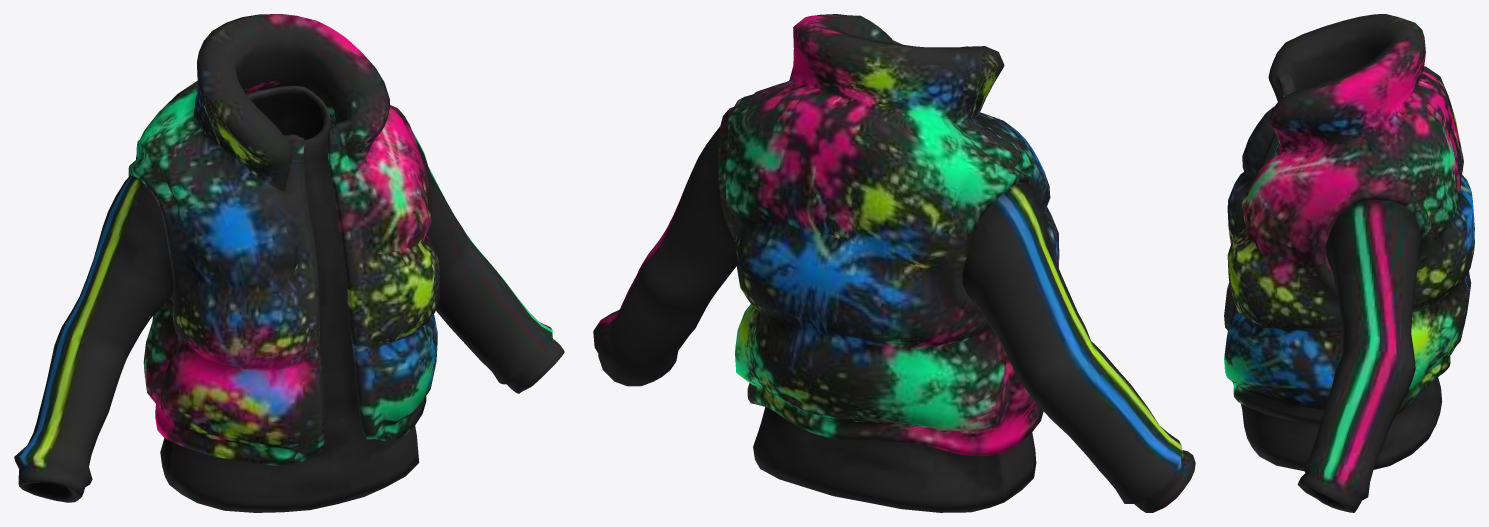
Rendered from body8.glb.
3 renders of one model, left to right at view 1: azimuth 30°, elevation 25°; view 2: azimuth 150°, elevation 25°; view 3: azimuth 270°, elevation 25°, orthographic. The views are drawn at different scales.
Visible parts, largest first — view 1: Wolf3D_Outfit_Top; view 2: Wolf3D_Outfit_Top; view 3: Wolf3D_Outfit_Top.
Boxes of the visible parts, x1=… form: Wolf3D_Outfit_Top: x1=14, y1=14, x2=564, y2=512; Wolf3D_Outfit_Top: x1=593, y1=14, x2=1195, y2=512; Wolf3D_Outfit_Top: x1=1224, y1=14, x2=1474, y2=512.
Bounding box in the file's own units: 0.9874 × 0.7404 × 0.4274.
1 material, 1 textured.
